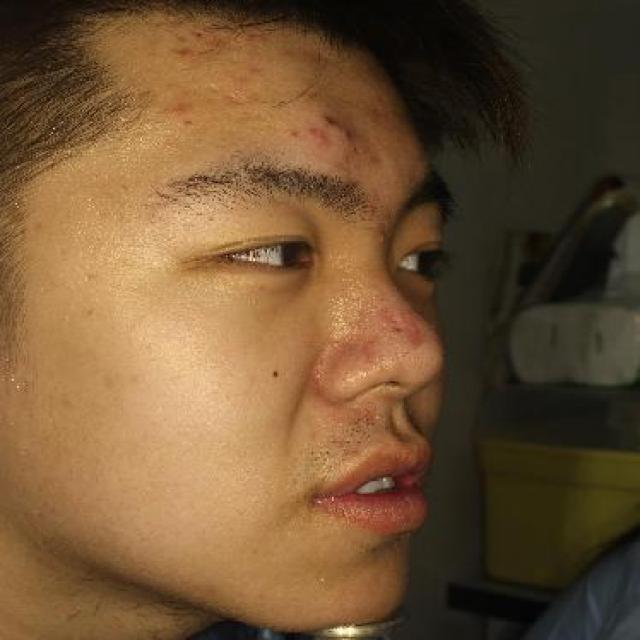papules: (316, 109, 346, 126), (340, 124, 358, 144), (313, 132, 334, 148)
